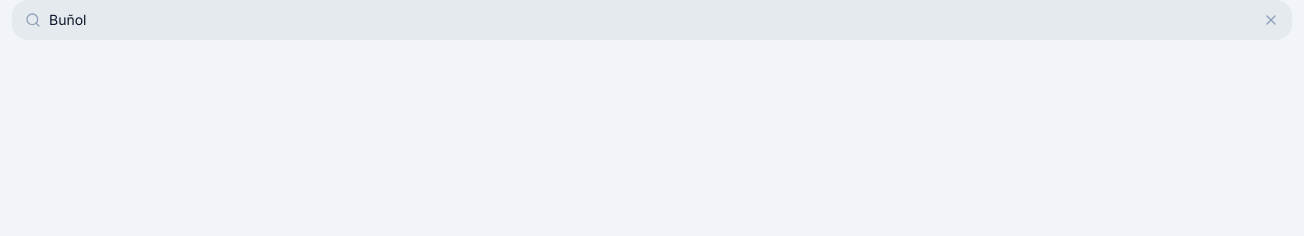
Test case: autocompletado › muestra resultados reales con tipo y dirección y permite elegirlos con teclado
Later steps or results of the test are not shown.
Click the dropdown named "Buscar".
click(652, 20)  # box [49,10,1255,30]
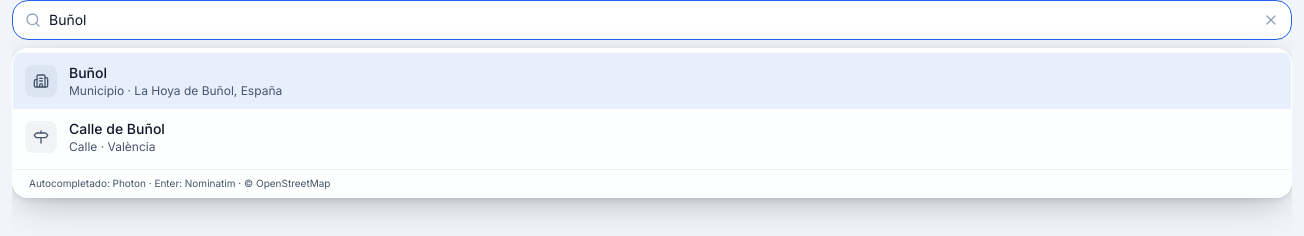
Expected: the text "Buñol" is shown, [69,64,107,81]
Expected: the text "Municipio · La Hoya de Buñol, España" is shown, [69,83,282,98]
